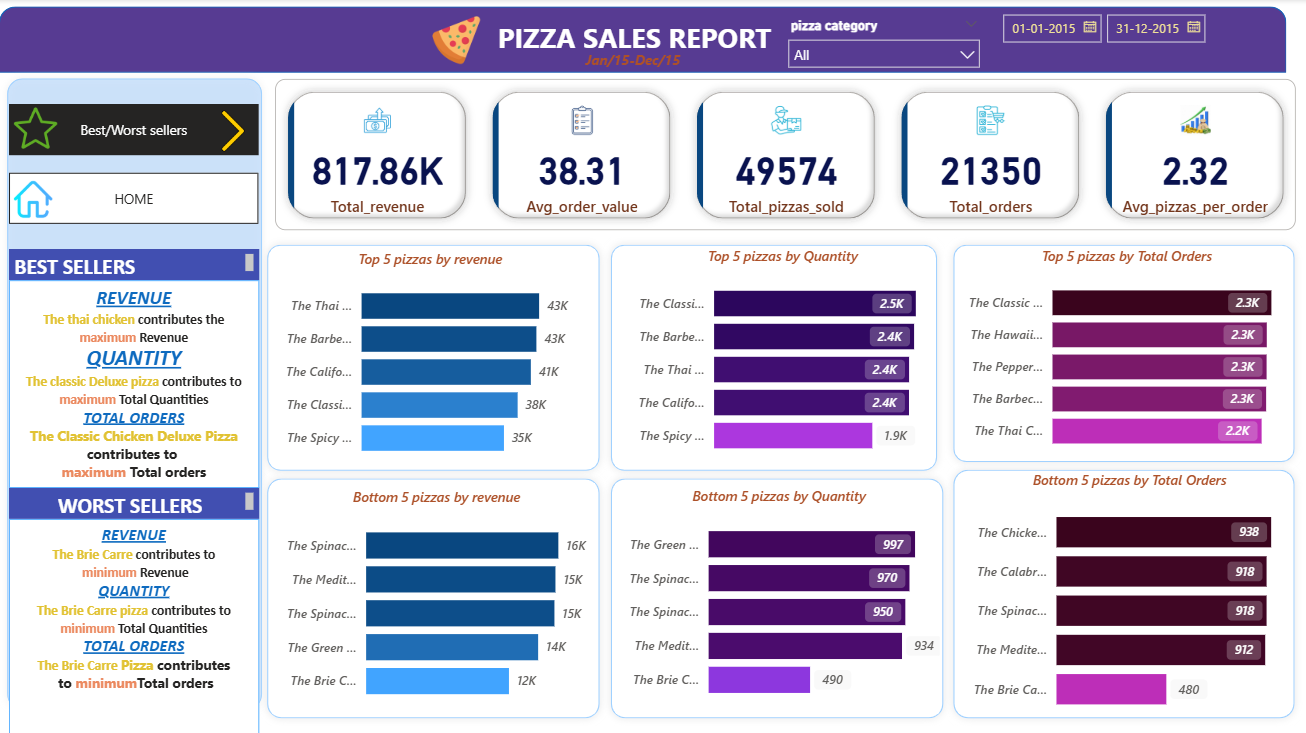

What the dashboard file says about the page in this screenshot:
{"tool":"powerbi","page":{"name":"Best/Worst sellers","canvas":[1280,720],"ordinal":1},"visuals":[{"type":"shape","box":[254.3,232.3,341.2,237.2],"z":0},{"type":"cardVisual","fields":{"Data":["pizza_sales.Total_revenue","pizza_sales.Avg_order_value","pizza_sales.Total_pizzas_sold","pizza_sales.Total_orders","pizza_sales.Avg_pizzas_per_order"]},"box":[265.4,73.4,1010.1,159],"z":1000},{"type":"shape","box":[0,7.3,1259.5,64.8],"z":2000},{"type":"textbox","box":[481.8,14.7,280,45.2],"z":3000},{"type":"textbox","box":[568.6,45.2,108.8,28.1],"z":4000},{"type":"image","box":[413.3,11,68.5,58.7],"z":5000},{"type":"shape","box":[0,69.7,265.4,633.4],"z":6000},{"type":"textbox","box":[9.8,244.6,244.6,30.6],"z":7000},{"type":"textbox","box":[9.8,508.7,244.6,211.6],"z":8000},{"type":"textbox","box":[9.8,478.1,244.6,30.6],"z":9000},{"type":"textbox","box":[9.8,275.1,244.6,203],"z":10000},{"type":"slicer","fields":{"Values":["pizza_sales.pizza_category"]},"box":[761.8,13.5,207.9,58.7],"z":11000},{"type":"slicer","fields":{"Values":["pizza_sales.order_date"]},"box":[969.7,4.9,227.4,66],"z":12000},{"type":"shape","box":[590.6,232.3,335.1,237.2],"z":13000},{"type":"shape","box":[925.7,232.3,349.7,228.7],"z":14000},{"type":"shape","box":[254.3,461,341.2,250.7],"z":15000},{"type":"shape","box":[590.6,461,341.2,250.7],"z":16000},{"type":"shape","box":[925.7,452.4,349.7,259.2],"z":17000},{"type":"barChart","title":"Top 5 pizzas by revenue ","fields":{"Category":["pizza_sales.pizza_name"],"Y":["pizza_sales.Total_revenue"]},"box":[262.9,244.6,317.9,216.4],"z":18000},{"type":"barChart","title":"Bottom 5 pizzas by revenue ","fields":{"Category":["pizza_sales.pizza_name"],"Y":["pizza_sales.Total_revenue"]},"box":[265.4,478.1,325.3,221.3],"z":19000},{"type":"barChart","title":"Top 5 pizzas by Quantity","fields":{"Category":["pizza_sales.pizza_name"],"Y":["pizza_sales.Total_pizzas_sold"]},"box":[607.7,242.1,317.9,216.4],"z":20000},{"type":"barChart","title":"Bottom 5 pizzas by Quantity","fields":{"Category":["pizza_sales.pizza_name"],"Y":["pizza_sales.Total_pizzas_sold"]},"box":[600.4,476.9,325.3,221.3],"z":21000},{"type":"barChart","title":"Top 5 pizzas by Total Orders","fields":{"Category":["pizza_sales.pizza_name"],"Y":["pizza_sales.Total_orders"]},"box":[931.7,241.5,343.1,211.3],"z":22000},{"type":"barChart","title":"Bottom 5 pizzas by Total Orders","fields":{"Category":["pizza_sales.pizza_name"],"Y":["pizza_sales.Total_orders"]},"box":[936.7,461,338.7,250.7],"z":22001},{"type":"pageNavigator","box":[9.8,102.7,244.6,50.1],"z":22002},{"type":"pageNavigator","box":[9.8,170,244.6,50.1],"z":22003},{"type":"image","box":[204.2,102.7,50.1,52.6],"z":22004},{"type":"image","box":[9.8,170,47.7,52.6],"z":22005},{"type":"image","box":[9.8,100.3,52.6,52.6],"z":22006}]}

Visuals, with their boxes in screenshot pixels (x1, y1, x2, y2), scaled from the page's 1280x720 canvas onto the 1306x733 screenshot:
shape: [259, 236, 608, 478]
cardVisual - pizza_sales.Total_revenue x pizza_sales.Avg_order_value: [271, 75, 1301, 237]
shape: [0, 7, 1285, 73]
textbox: [492, 15, 777, 61]
textbox: [580, 46, 691, 75]
image: [422, 11, 492, 71]
shape: [0, 71, 271, 716]
textbox: [10, 249, 260, 280]
textbox: [10, 518, 260, 732]
textbox: [10, 487, 260, 518]
textbox: [10, 280, 260, 487]
slicer - pizza_sales.pizza_category: [777, 14, 989, 74]
slicer - pizza_sales.order_date: [989, 5, 1221, 72]
shape: [603, 236, 945, 478]
shape: [945, 236, 1301, 469]
shape: [259, 469, 608, 725]
shape: [603, 469, 951, 725]
shape: [945, 461, 1301, 724]
"Top 5 pizzas by revenue " barChart: [268, 249, 593, 469]
"Bottom 5 pizzas by revenue " barChart: [271, 487, 603, 712]
"Top 5 pizzas by Quantity" barChart: [620, 246, 944, 467]
"Bottom 5 pizzas by Quantity" barChart: [613, 486, 945, 711]
"Top 5 pizzas by Total Orders" barChart: [951, 246, 1301, 461]
"Bottom 5 pizzas by Total Orders" barChart: [956, 469, 1301, 725]
pageNavigator: [10, 105, 260, 156]
pageNavigator: [10, 173, 260, 224]
image: [208, 105, 259, 158]
image: [10, 173, 59, 227]
image: [10, 102, 64, 156]
